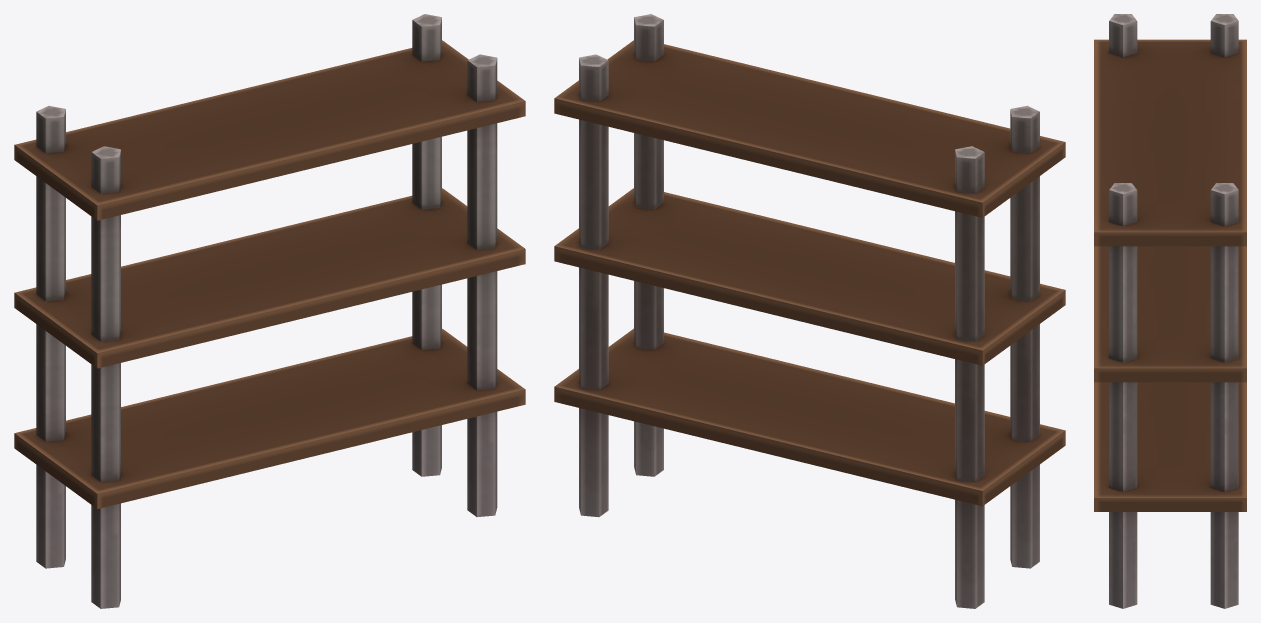
Rendered from RuralProps_Cupboard1.fbx.
3 renders of one model, left to right at view 1: azimuth 30°, elevation 25°; view 2: azimuth 150°, elevation 25°; view 3: azimuth 270°, elevation 25°, orthographic. The views are drawn at different scales.
Visible parts, largest first — view 1: polySurface23; view 2: polySurface23; view 3: polySurface23.
Part boxes in pixels (x1,y1,x2,y2): polySurface23: [14, 14, 525, 608]; polySurface23: [554, 14, 1065, 608]; polySurface23: [1094, 14, 1246, 608].
Size of the model in its own units: 4.86 by 4.88 by 1.63.
2 materials, 2 textured.
